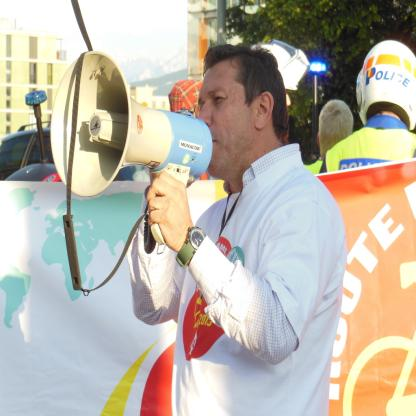Helmet: (356, 42, 410, 122)
